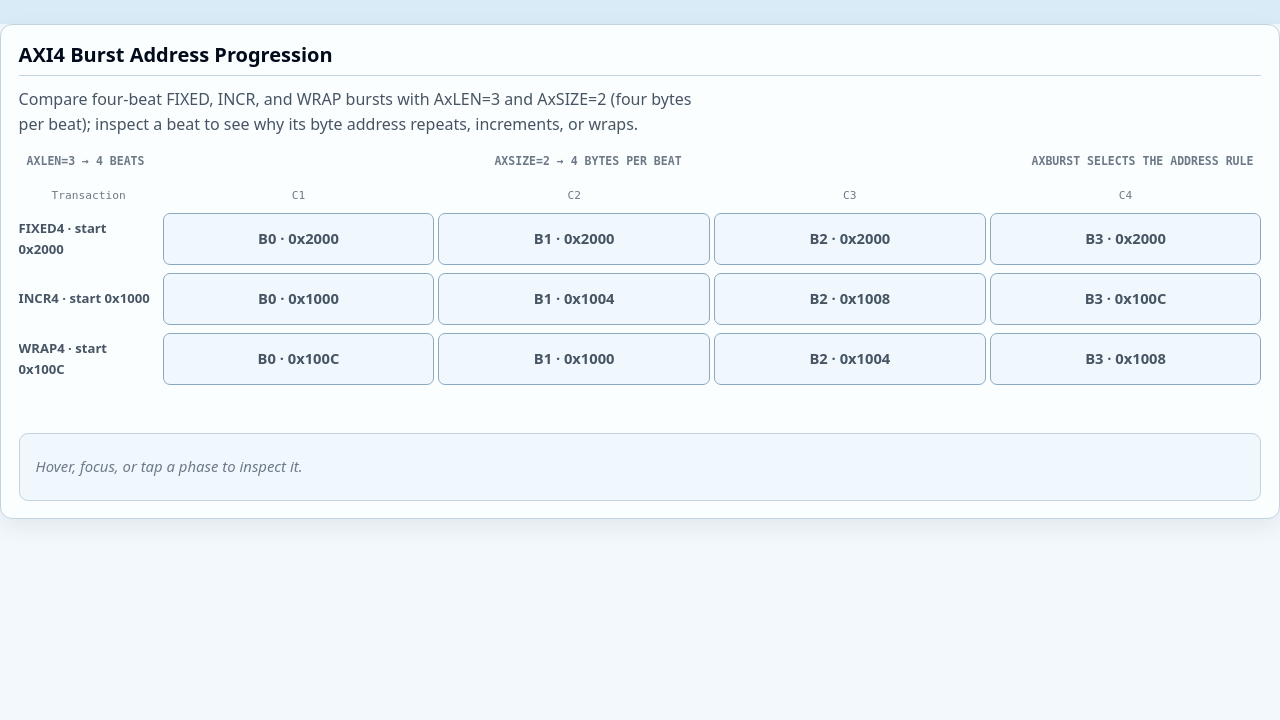
Test: production visual rendering › explains the AXI WRAP boundary from a keyboard-focused burst phase
This screenshot has width=1280, height=720.
Expected: the heading "AXI4 Burst Address Progression" is shown, [19,43,1261,76]
Focus the button named "WRAP4 · start 0x100C: B1 · 0x1000, cycles 2 to 3". click: (574, 359)
box: [438,333,710,385]
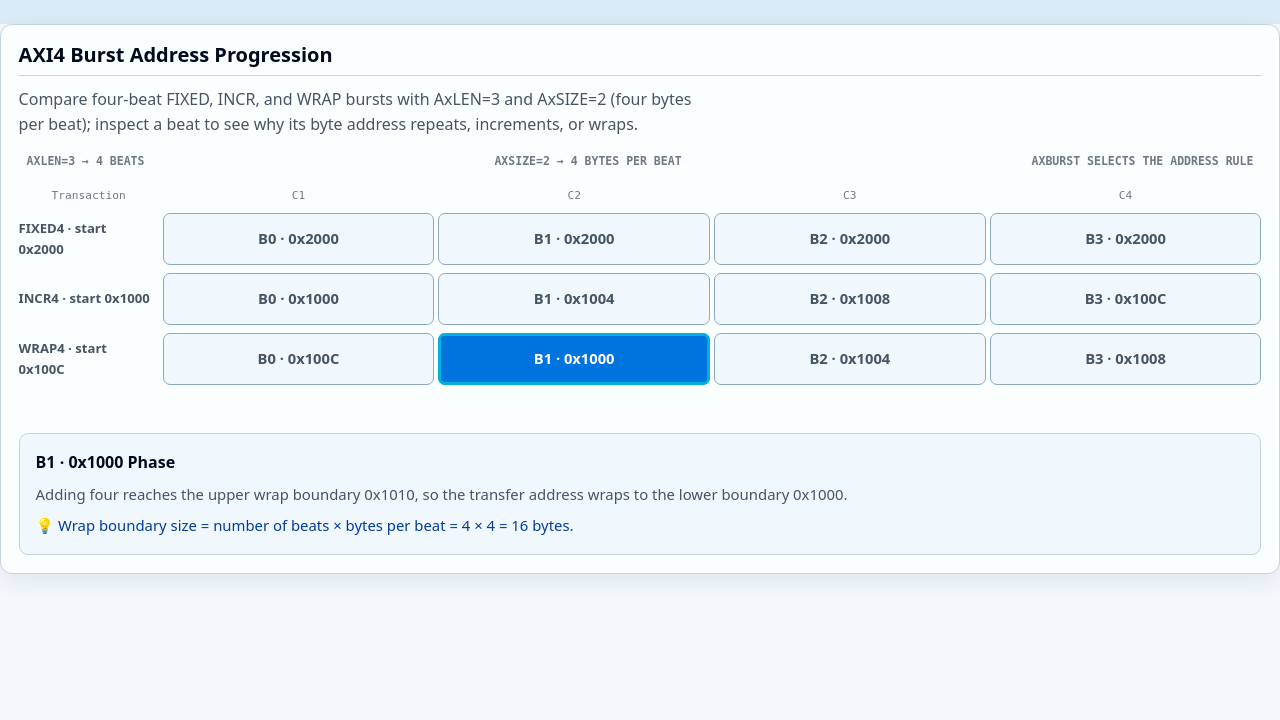
Expected: the text "wraps to the lower boundary 0x1000" is shown, [36,484,848,504]
